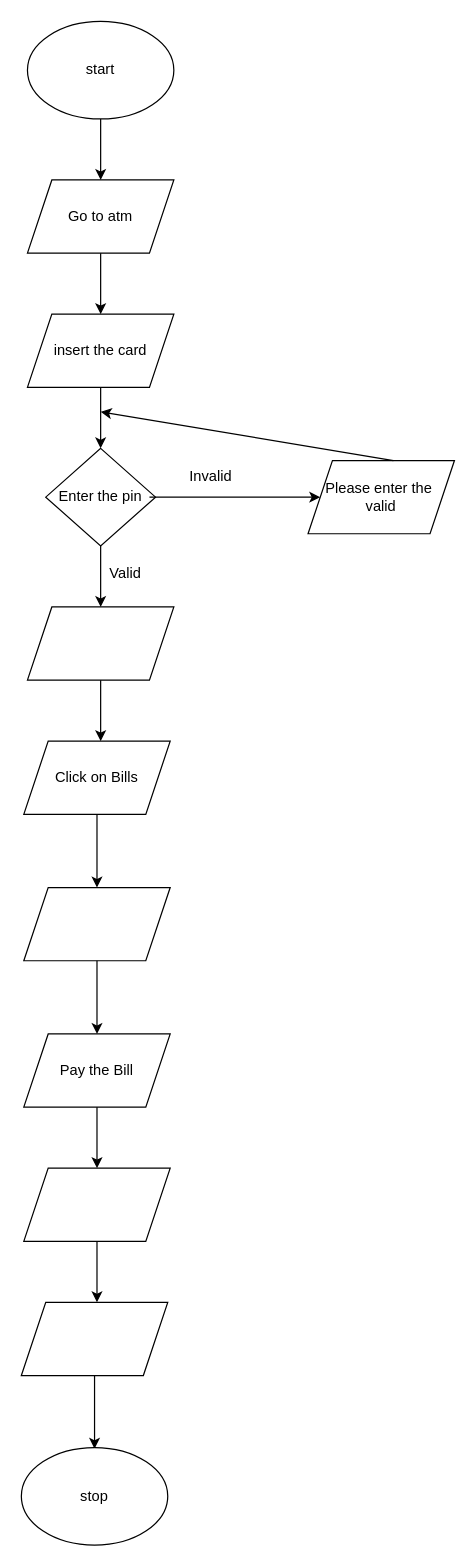
Image size: 476x1566. Some labels were removed from this diagram. The box of each missing label's shape, as (x1, y1, x2, y2) in pixels:
Click on More Options: (26, 606, 174, 680)
Enter the Card Details: (23, 886, 170, 961)
Processing the Transaction: (23, 1167, 170, 1241)
You transaction completed Success fully: (20, 1301, 168, 1376)
